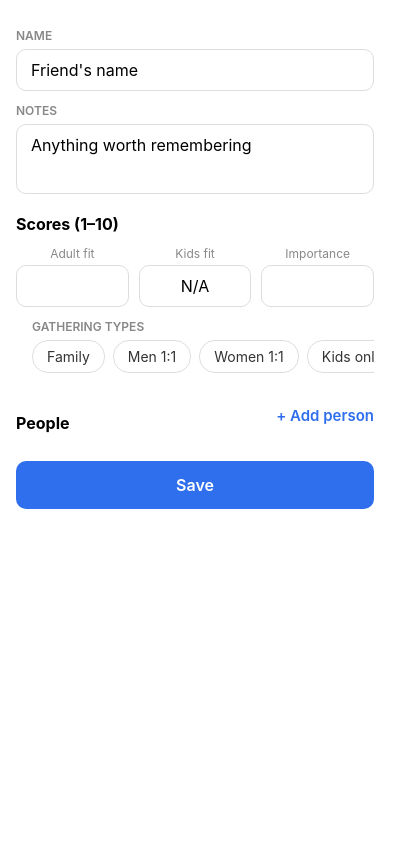
it: FriendFormScreen (add) › add_a_person_row_with_blank_name__submitted__shows_validation_error
This screenshot has width=402, height=844.
Type "Dan" into the field with placeholder "Friend's name" at (195,70), box [16, 49, 374, 91]
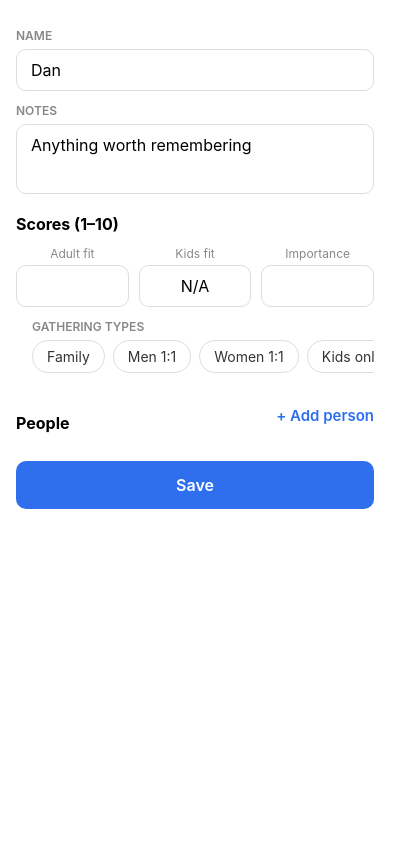
Type "5" into the field with test id "adult-fit-score" at (72,286), box [16, 265, 129, 307]
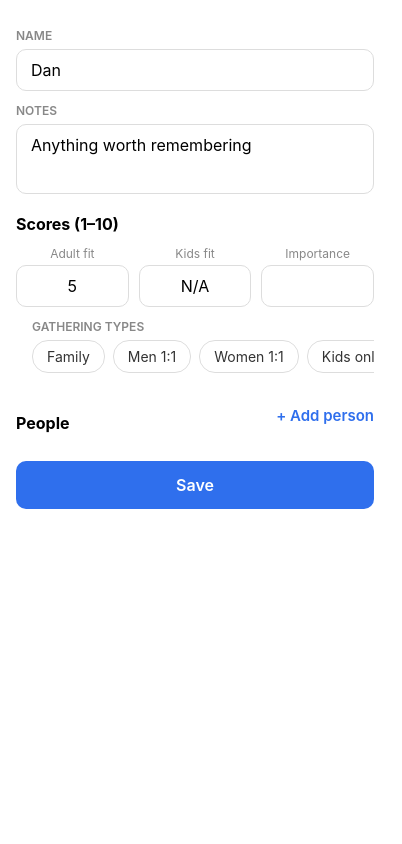
Type "5" into the field with test id "importance-score" at (318,286), box [261, 265, 374, 307]
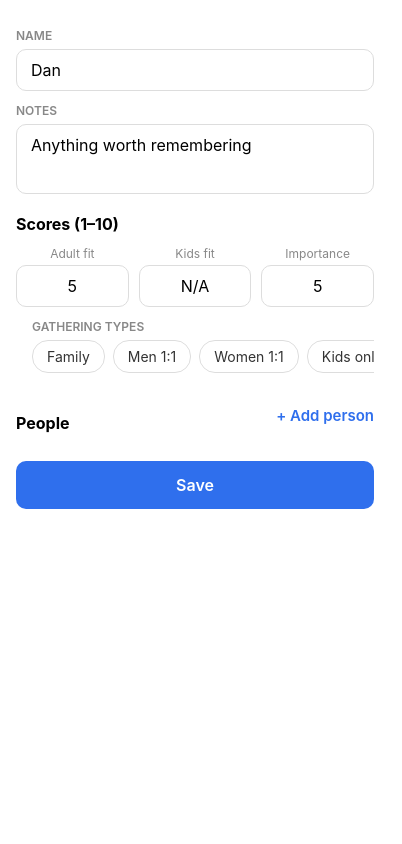
Click the text "+ Add person" at (325,415), box [276, 406, 374, 424]
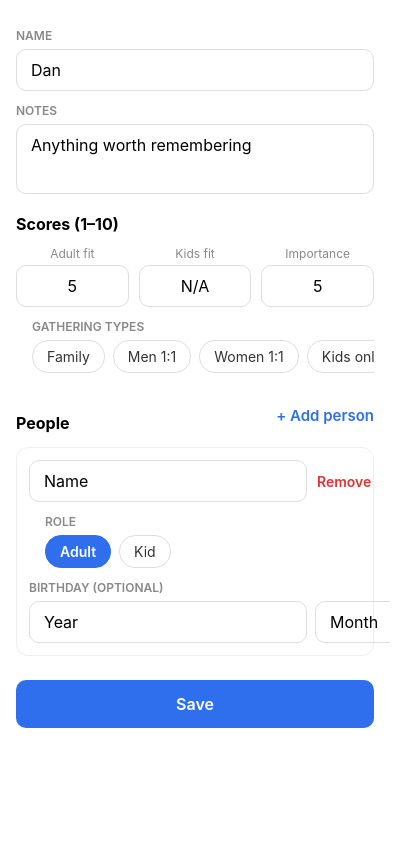
Click the element with test id "save-friend" at (195,704), box [16, 680, 374, 728]
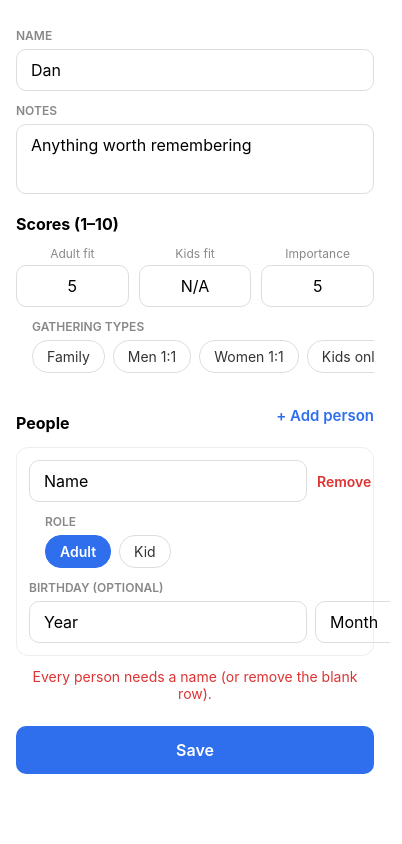
Expected: the text "Every person needs a name (or remove the blank row)." is shown, [16, 668, 374, 702]
